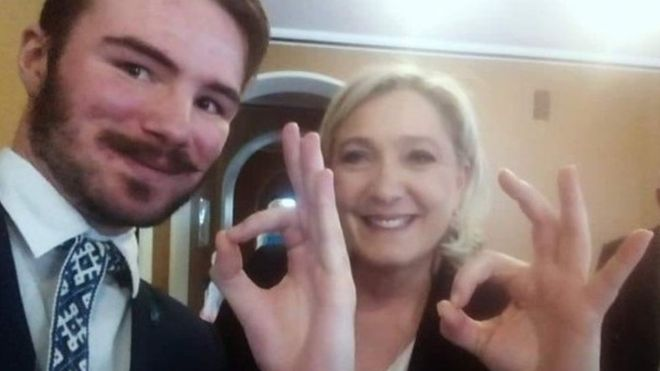oksign: (439, 187, 625, 368), (212, 144, 356, 362)
